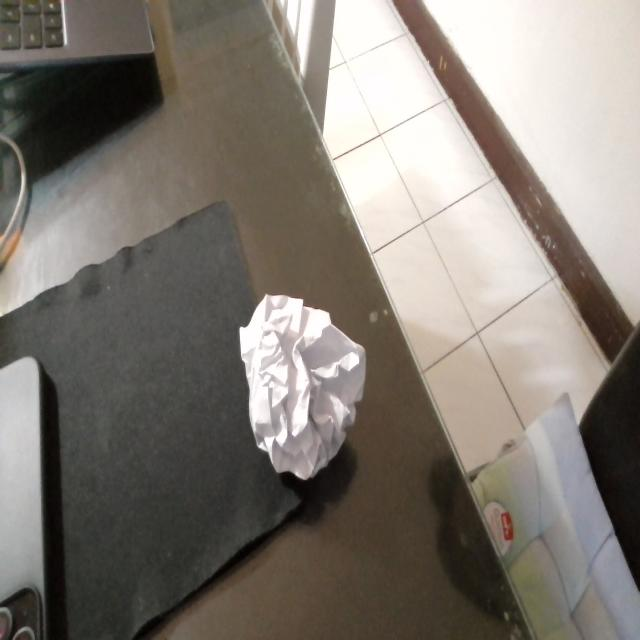crumpled_paper: (238, 287, 367, 483)
